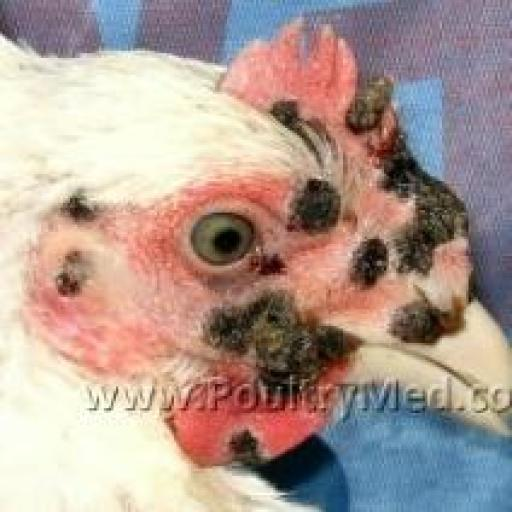disease: (346, 39, 488, 370), (188, 272, 380, 389), (260, 71, 350, 244), (34, 180, 108, 332), (206, 405, 268, 478)
